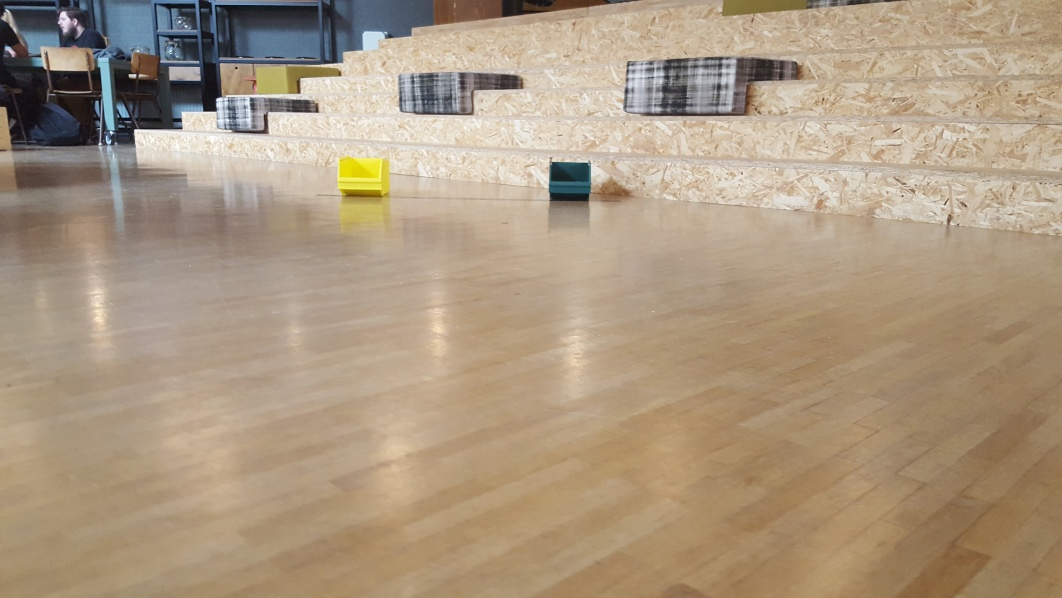tray: (333, 151, 393, 199), (546, 159, 594, 196)
